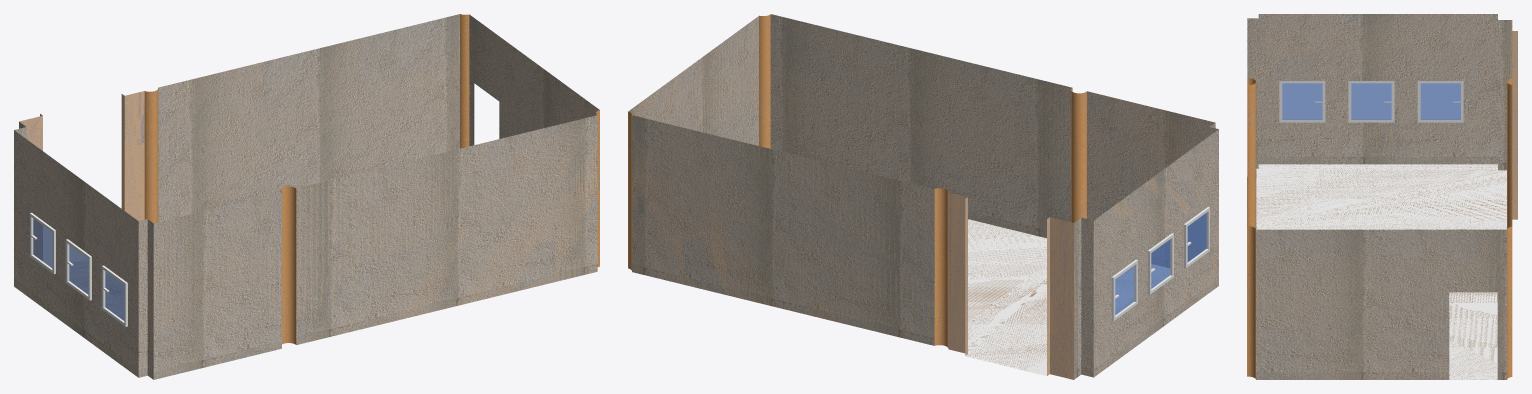
File: AUL024.obj
3 views of the same model, side by side, from view 1: azimuth 30°, elevation 25°; view 2: azimuth 150°, elevation 25°; view 3: azimuth 270°, elevation 25° (orthographic). The views are drawn at different scales.
Parts seen in each view (by area): view 1: Mesh10 AUL024 Model, Mesh1 ventana3_1_1 AUL024 Model, Mesh4 ventana3_1_2 AUL024 Model, Mesh7 ventana3_1_3 AUL024 Model; view 2: Mesh10 AUL024 Model, Mesh7 ventana3_1_3 AUL024 Model, Mesh1 ventana3_1_1 AUL024 Model, Mesh4 ventana3_1_2 AUL024 Model; view 3: Mesh10 AUL024 Model, Mesh1 ventana3_1_1 AUL024 Model, Mesh4 ventana3_1_2 AUL024 Model, Mesh7 ventana3_1_3 AUL024 Model.
Boxes of the visible parts, x1,y1,x2,y2 form: Mesh10 AUL024 Model: [14, 14, 599, 379]; Mesh1 ventana3_1_1 AUL024 Model: [65, 239, 91, 300]; Mesh4 ventana3_1_2 AUL024 Model: [101, 265, 127, 326]; Mesh7 ventana3_1_3 AUL024 Model: [30, 212, 55, 273]; Mesh10 AUL024 Model: [628, 14, 1218, 379]; Mesh7 ventana3_1_3 AUL024 Model: [1111, 260, 1137, 321]; Mesh1 ventana3_1_1 AUL024 Model: [1148, 233, 1173, 294]; Mesh4 ventana3_1_2 AUL024 Model: [1184, 207, 1209, 268]; Mesh10 AUL024 Model: [1247, 14, 1517, 379]; Mesh1 ventana3_1_1 AUL024 Model: [1348, 81, 1394, 122]; Mesh4 ventana3_1_2 AUL024 Model: [1279, 81, 1325, 122]; Mesh7 ventana3_1_3 AUL024 Model: [1417, 81, 1463, 122].
Size of the model in its own units: 11.12 by 3.6 by 5.87.
Materials: 8 (2 with a texture image).
